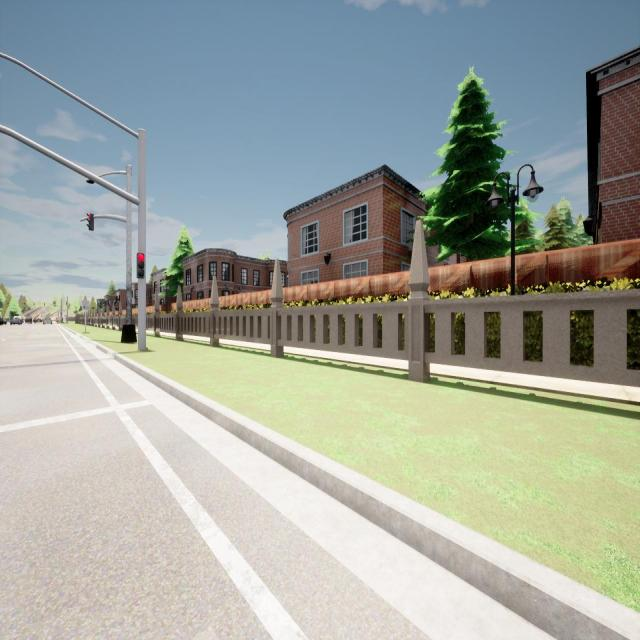Traffic_Signs: (82, 300, 90, 310)
Vehicle: (10, 318, 23, 325), (43, 317, 52, 325), (25, 316, 33, 324), (0, 317, 7, 325), (33, 318, 42, 324), (13, 316, 22, 319)
traffic_light: (136, 254, 144, 278), (86, 213, 94, 231), (24, 302, 26, 305), (60, 312, 61, 315), (66, 302, 67, 305), (44, 303, 45, 305), (34, 302, 34, 306)
